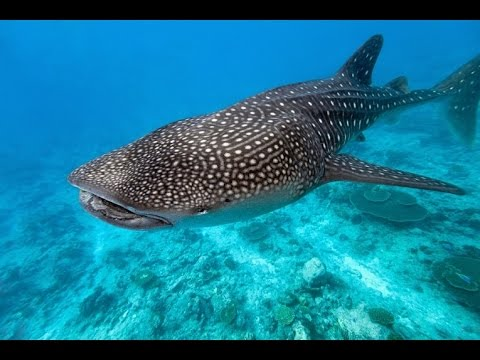Rhincodon_typusw: (54, 28, 470, 259)
